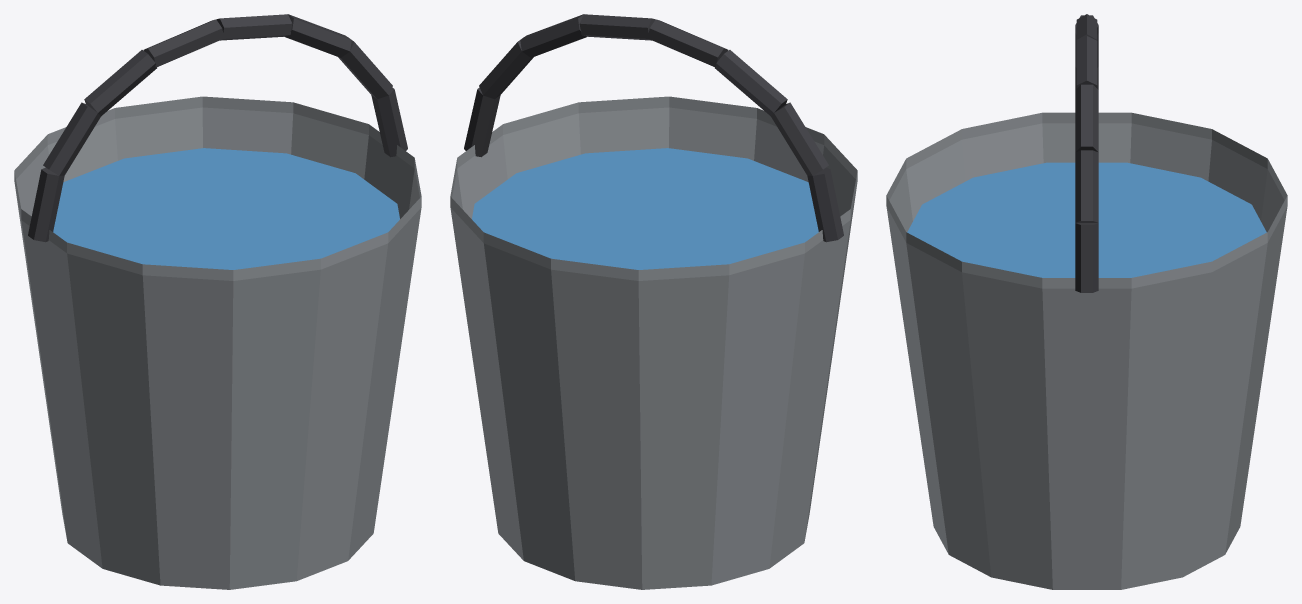
The model's file is Daily_Bucket.obj.
3 views of the same model, side by side, from view 1: azimuth 30°, elevation 25°; view 2: azimuth 150°, elevation 25°; view 3: azimuth 270°, elevation 25° (orthographic). The views are drawn at different scales.
Visible parts, largest first — view 1: Daily_Bucket; view 2: Daily_Bucket; view 3: Daily_Bucket.
Boxes of the visible parts, <box> form: Daily_Bucket: <box>14,14,421,589</box>; Daily_Bucket: <box>450,14,857,589</box>; Daily_Bucket: <box>886,14,1287,589</box>.
Bounding box in the file's own units: 0.3568 × 0.4598 × 0.34.
